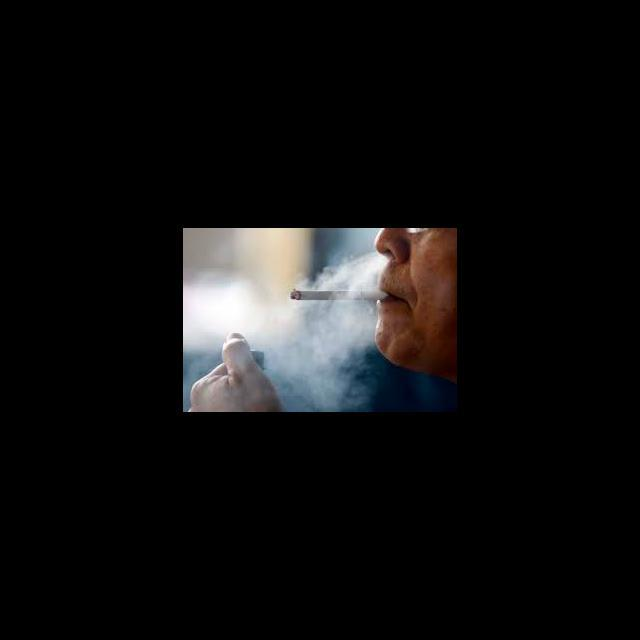Smoke: (183, 252, 388, 411)
